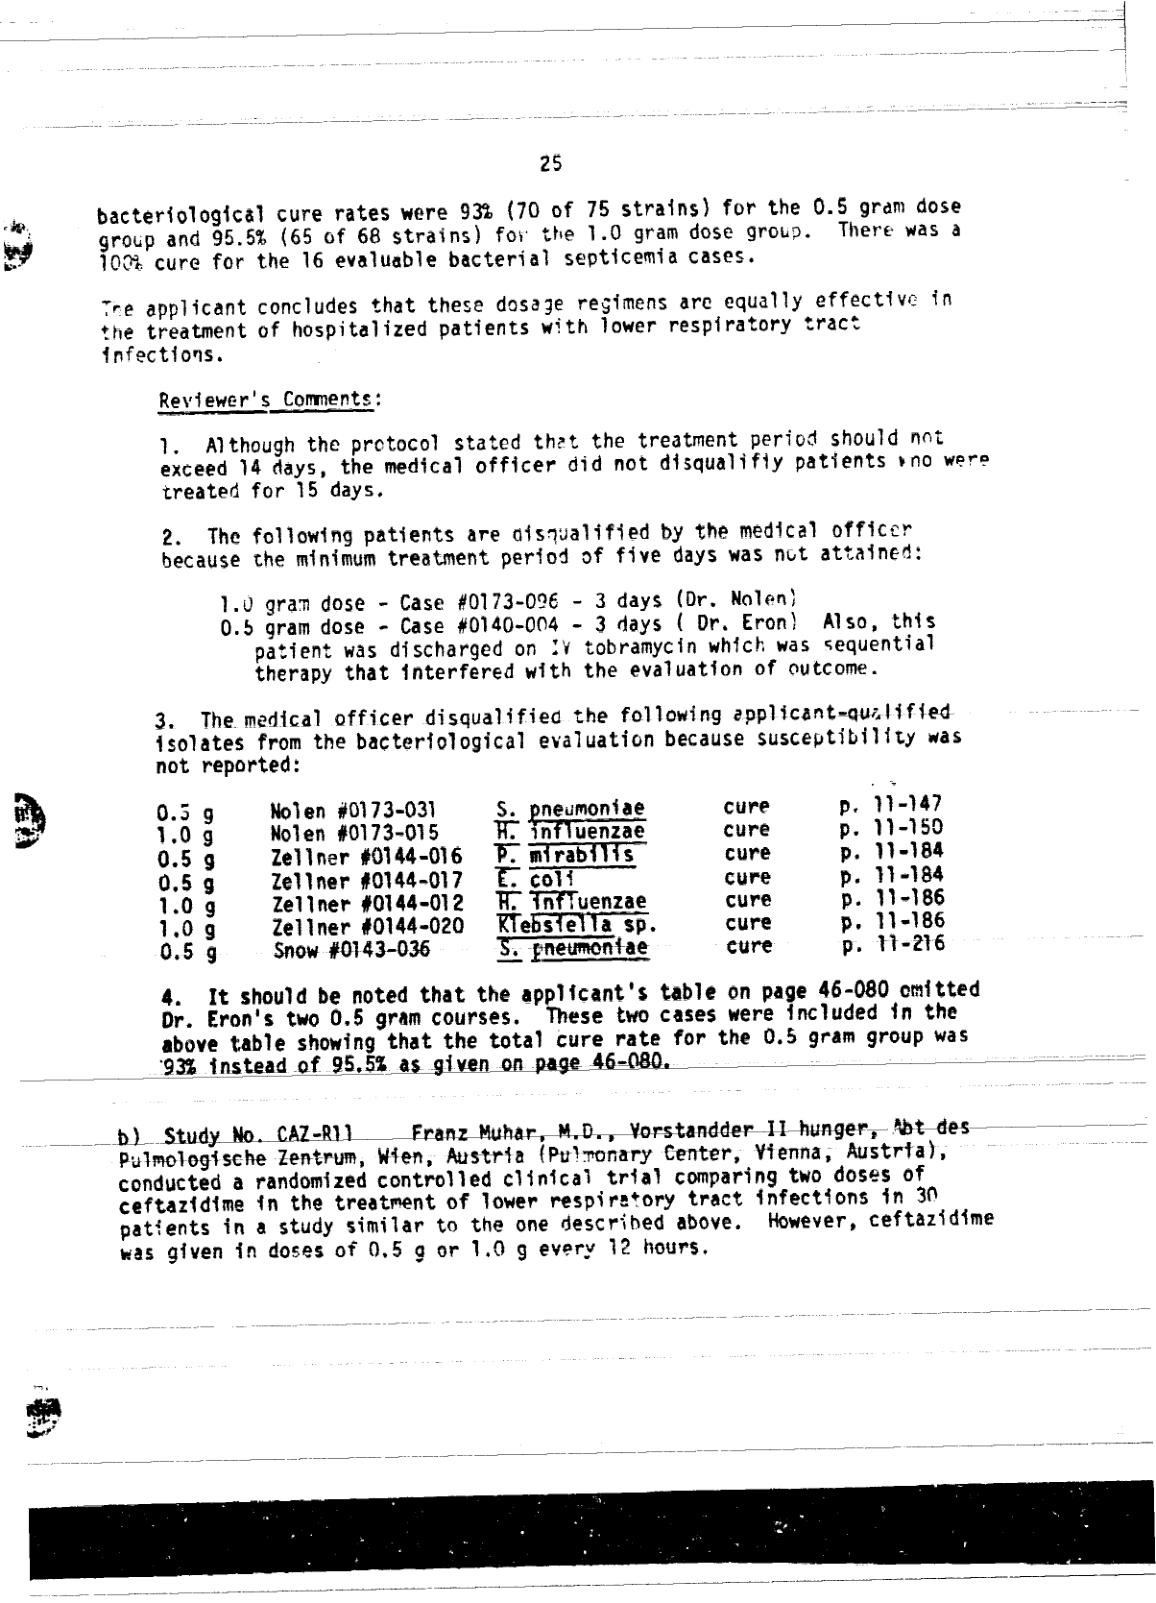nolines: (153, 789, 948, 962)
